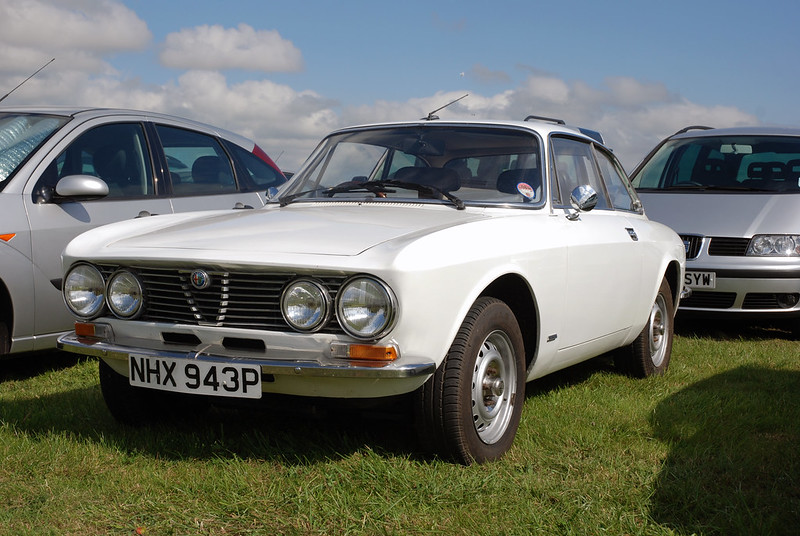car: (62, 106, 687, 455)
